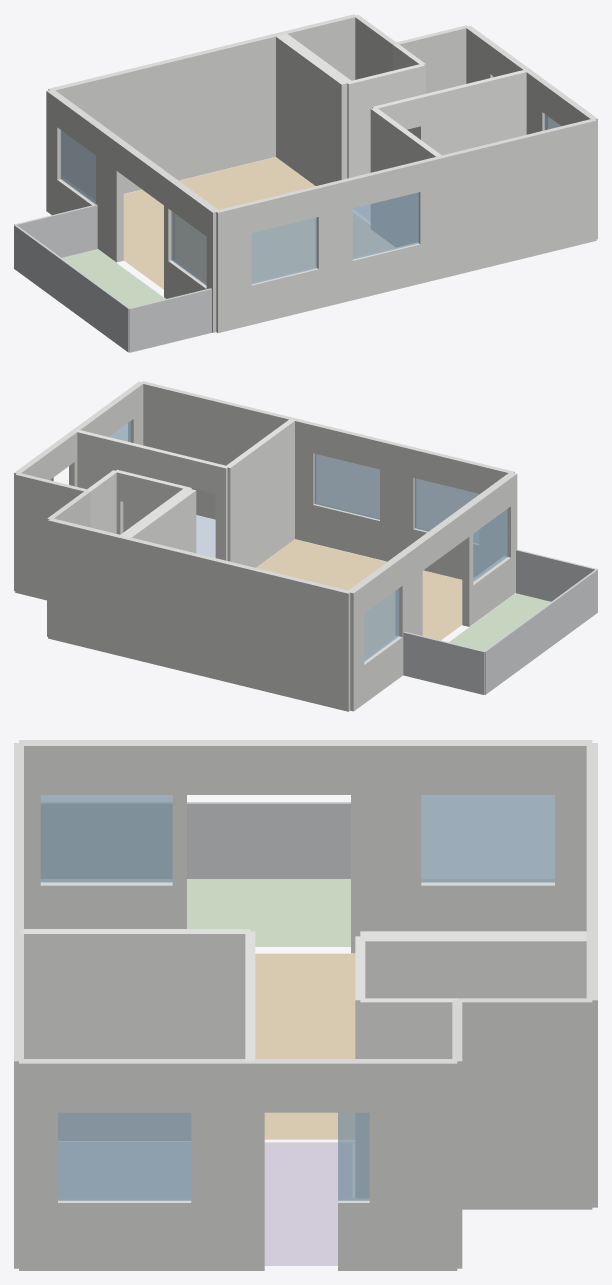
Rendered from sample_plan_3d.glb.
3 views of the same model, one above another, from view 1: azimuth 30°, elevation 25°; view 2: azimuth 150°, elevation 25°; view 3: azimuth 270°, elevation 25° (orthographic). The views are drawn at different scales.
Parts seen in each view (by area): view 1: wall_W1_0, wall_W7_16, floor_R2_living_kitchen_50, wall_W10_27, wall_W5_8, railing_R1_47, wall_W9_26, wall_W6_9, wall_W6_12, railing_R1_48, window_N6_45, window_N5_44 (+28 smaller); view 2: wall_W1_0, wall_W2_1, wall_W7_16, wall_W9_26, floor_R2_living_kitchen_50, railing_R1_47, wall_W3_2, wall_W5_8, wall_W6_12, railing_R1_46, window_N6_45, wall_W10_27 (+31 smaller); view 3: wall_W9_26, wall_W11_28, railing_R1_47, wall_W13_30, wall_W10_27, wall_W8_20, floor_R2_living_kitchen_50, wall_W14_36, window_N3_42, window_N1_40, window_N4_43, floor_R3_hallway_51 (+25 smaller).
Part boxes in pixels (x1=…): wall_W1_0: x1=48, y1=33, x2=281, y2=200; wall_W7_16: x1=439, y1=119, x2=596, y2=278; floor_R2_living_kitchen_50: x1=123, y1=157, x2=394, y2=289; wall_W10_27: x1=276, y1=33, x2=351, y2=185; wall_W5_8: x1=418, y1=70, x2=528, y2=155; railing_R1_47: x1=14, y1=224, x2=129, y2=352; wall_W9_26: x1=370, y1=107, x2=441, y2=246; wall_W6_9: x1=215, y1=202, x2=251, y2=332; wall_W6_12: x1=316, y1=178, x2=352, y2=308; railing_R1_48: x1=129, y1=288, x2=211, y2=352; window_N6_45: x1=352, y1=192, x2=419, y2=259; window_N5_44: x1=251, y1=217, x2=317, y2=284; wall_W1_0: x1=122, y1=536, x2=350, y2=711; wall_W2_1: x1=48, y1=518, x2=124, y2=656; wall_W7_16: x1=140, y1=381, x2=294, y2=519; wall_W9_26: x1=226, y1=419, x2=294, y2=567; floor_R2_living_kitchen_50: x1=256, y1=539, x2=462, y2=657; railing_R1_47: x1=484, y1=569, x2=597, y2=694; wall_W3_2: x1=15, y1=472, x2=88, y2=600; wall_W5_8: x1=75, y1=429, x2=182, y2=532; wall_W6_12: x1=380, y1=439, x2=415, y2=561; railing_R1_46: x1=403, y1=631, x2=484, y2=694; window_N6_45: x1=314, y1=454, x2=379, y2=519; wall_W10_27: x1=119, y1=487, x2=196, y2=553; wall_W9_26: x1=19, y1=929, x2=250, y2=1140; wall_W11_28: x1=457, y1=998, x2=592, y2=1209; railing_R1_47: x1=41, y1=802, x2=350, y2=878; wall_W13_30: x1=369, y1=1059, x2=457, y2=1270; wall_W10_27: x1=360, y1=931, x2=592, y2=998; wall_W8_20: x1=351, y1=740, x2=421, y2=953; floor_R2_living_kitchen_50: x1=255, y1=953, x2=355, y2=1139; wall_W14_36: x1=191, y1=1059, x2=250, y2=1270; window_N3_42: x1=58, y1=1112, x2=191, y2=1200; window_N1_40: x1=421, y1=795, x2=554, y2=882; window_N4_43: x1=40, y1=795, x2=172, y2=882; floor_R3_hallway_51: x1=264, y1=1142, x2=354, y2=1265.
Bounding box in the file's own units: 11.21 × 2.75 × 7.02.
